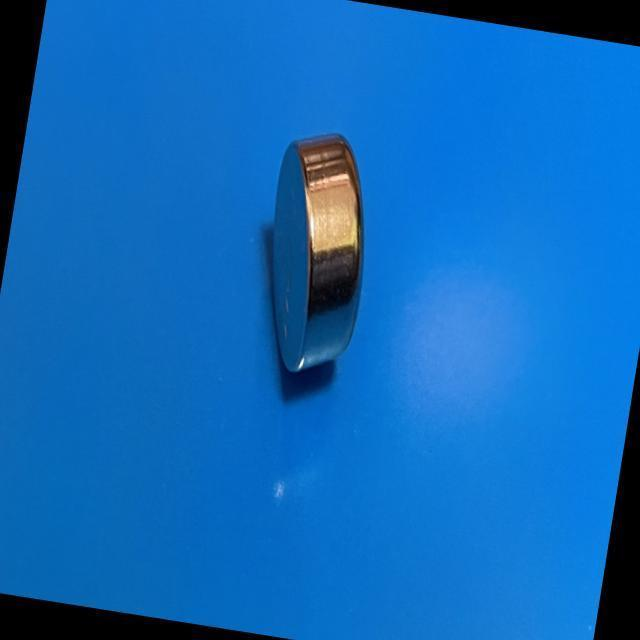COIN: (245, 116, 388, 393)
